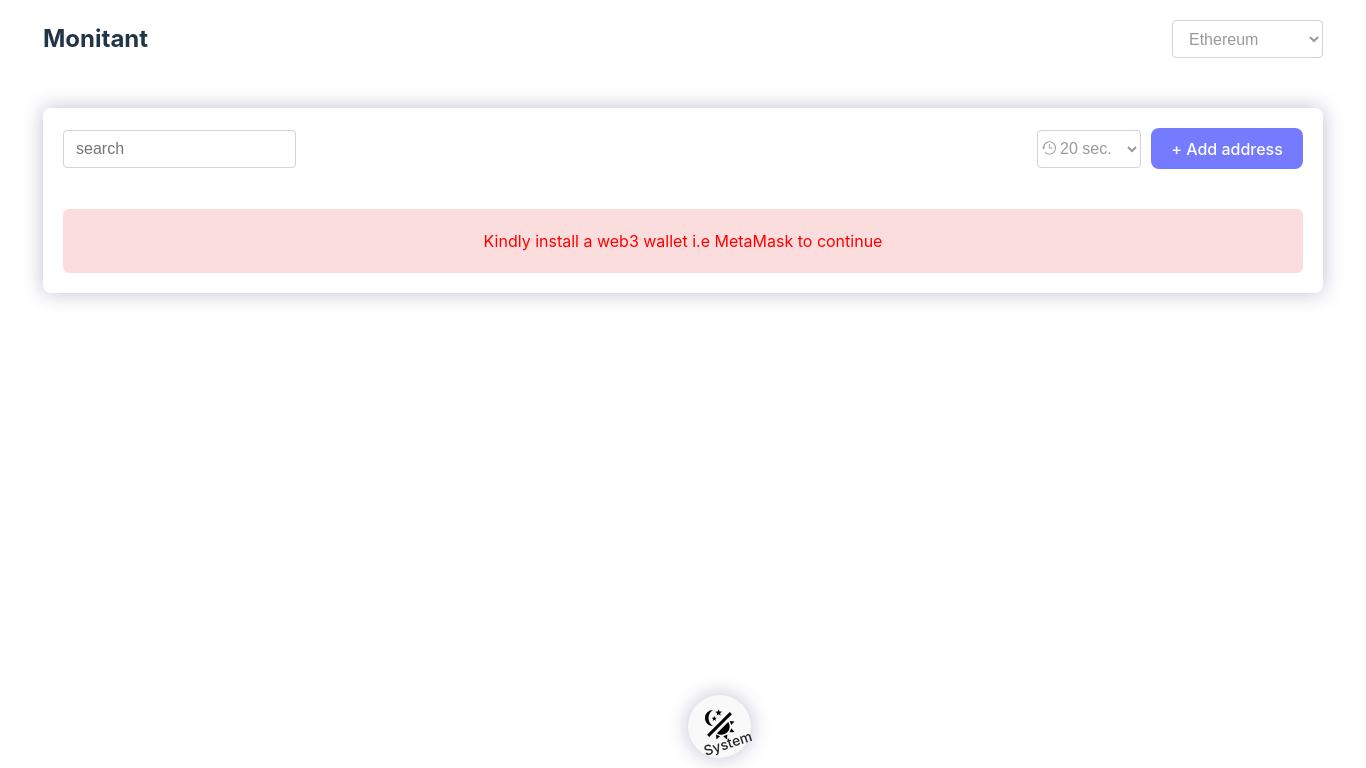
Test: show modal form
Click the button with test id "open-modal-button".
click(1227, 149)  # box [1151,128,1303,169]
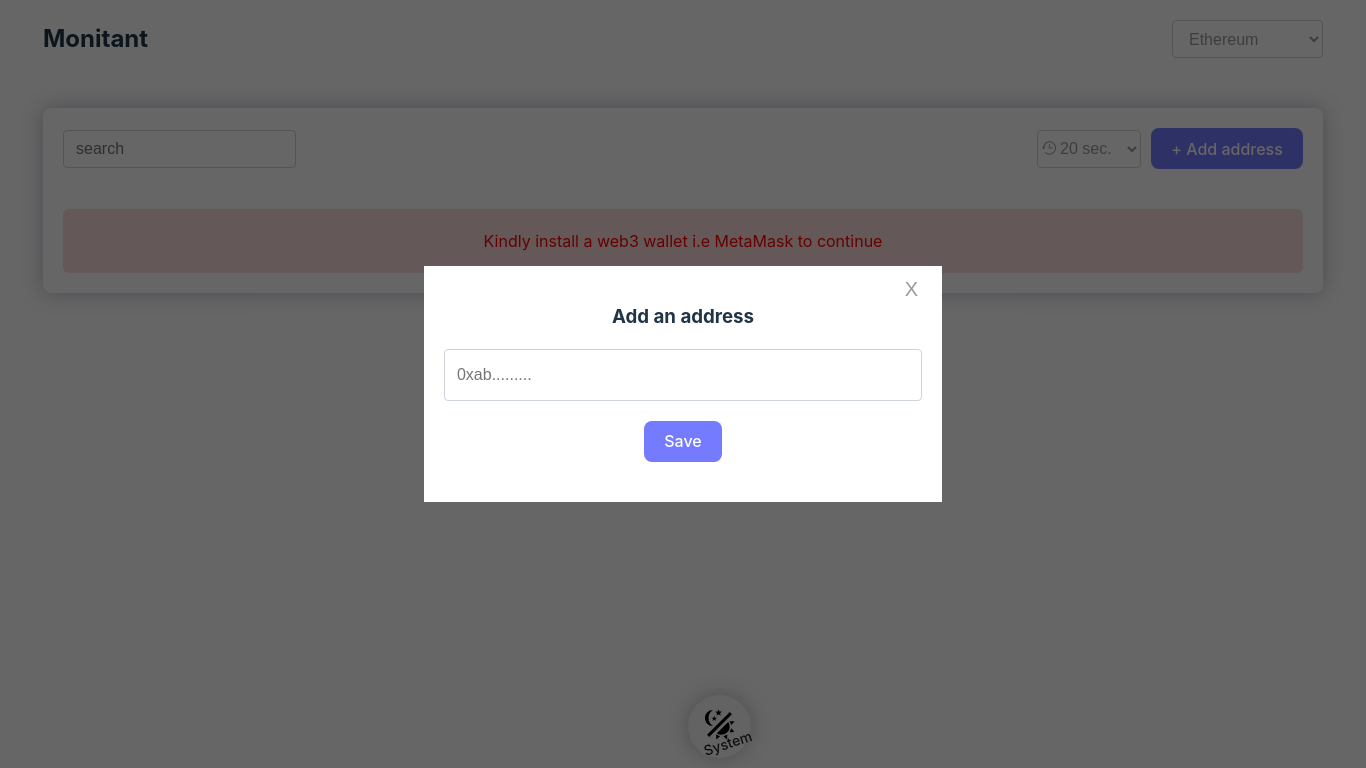
expect the heading "Add an address" is shown: met, box [612,305,754,328]
